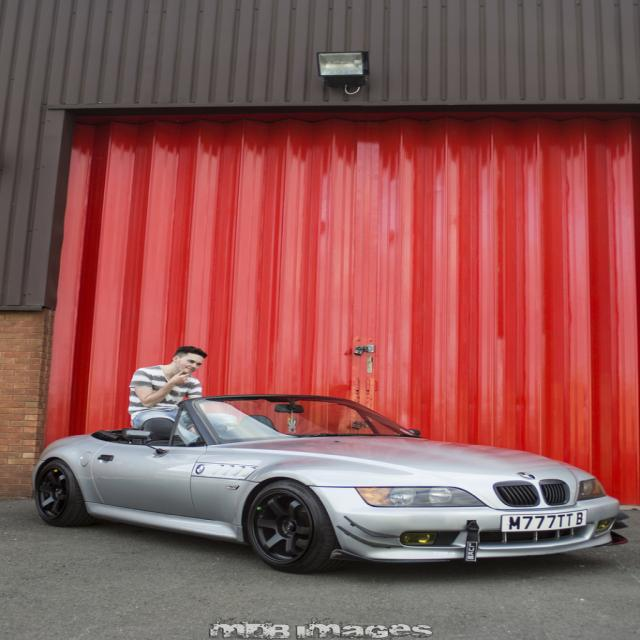car: (21, 396, 620, 569)
